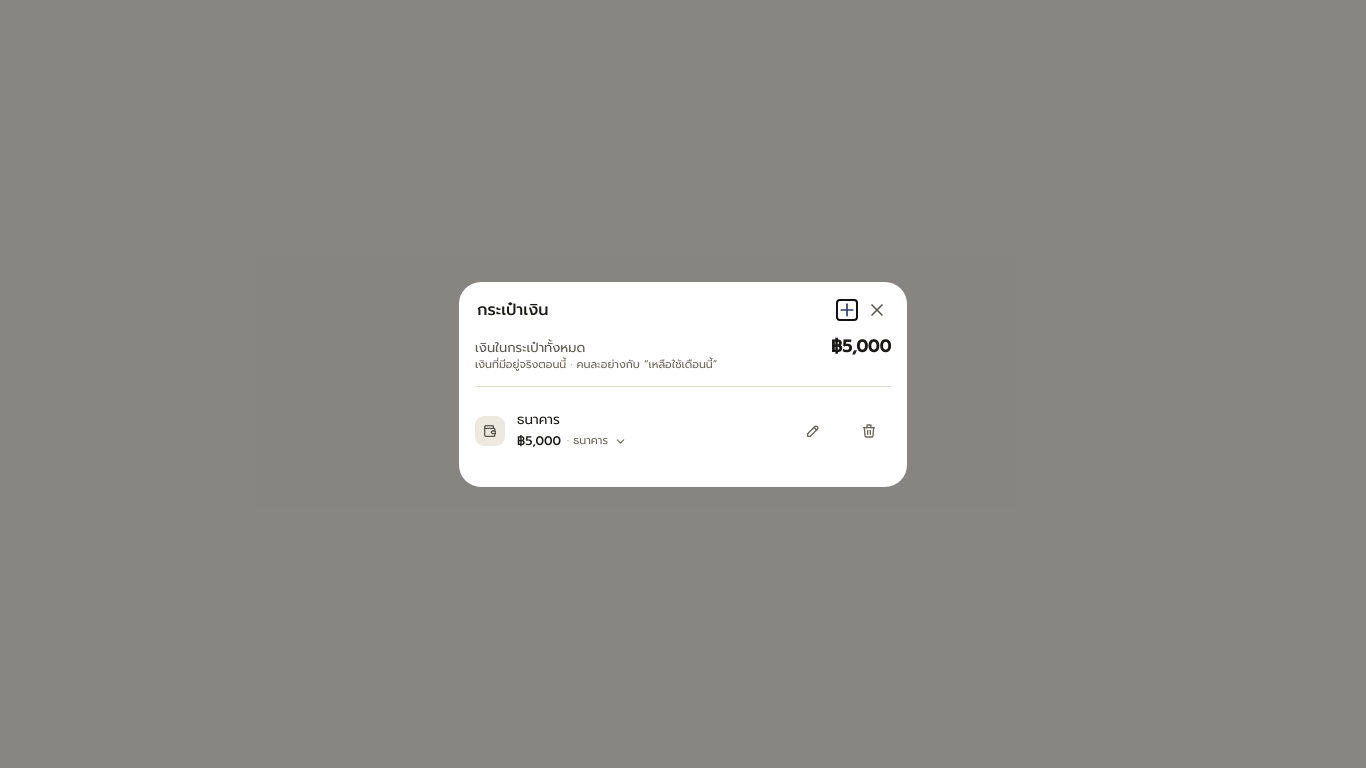
Test: WalletsManager — opening-balance form › edit seeds the stored opening balance (so saving name/type never wipes it)
Click the button named "แก้ไข" at (813, 430), box [791, 408, 835, 452]
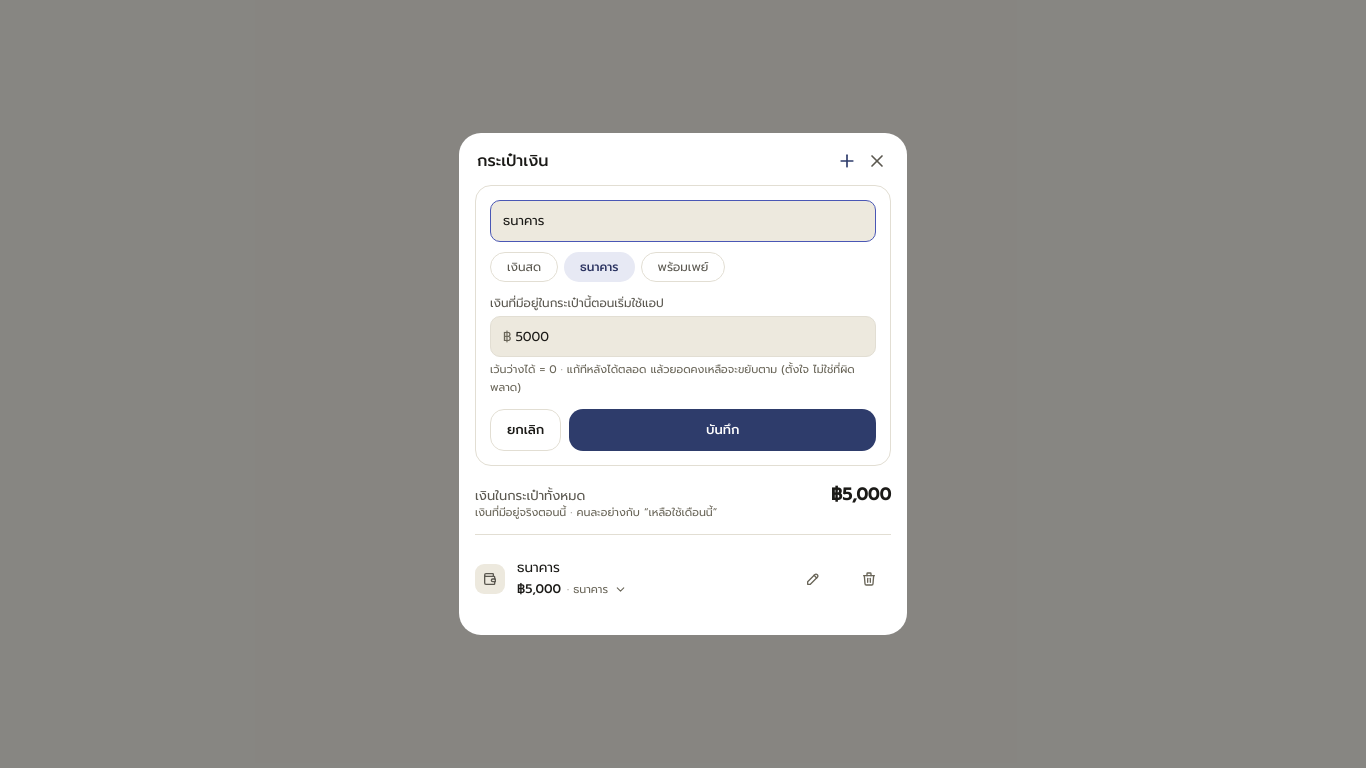
Expected: the field labelled "เงินที่มีอยู่ในกระเป๋านี้ตอนเริ่มใช้แอป" holds "5000", [515, 317, 863, 356]
